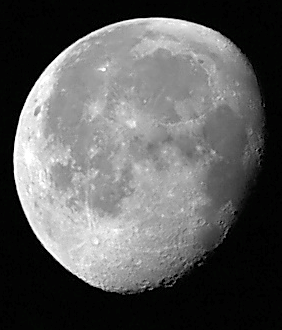crater: (74, 214, 115, 264), (89, 52, 121, 86), (78, 91, 107, 128), (27, 96, 53, 134), (182, 204, 211, 235), (123, 113, 140, 132), (231, 75, 244, 90), (194, 55, 207, 66)
